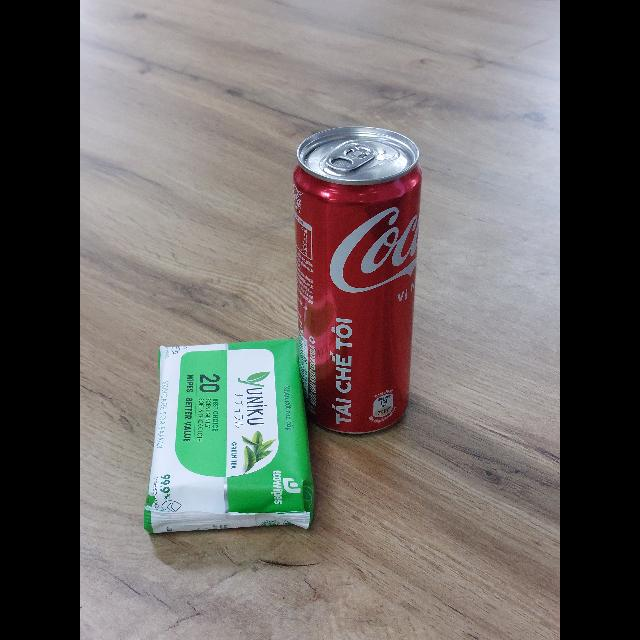coca_cola: (293, 128, 422, 433)
khan_giay: (145, 340, 312, 532)
